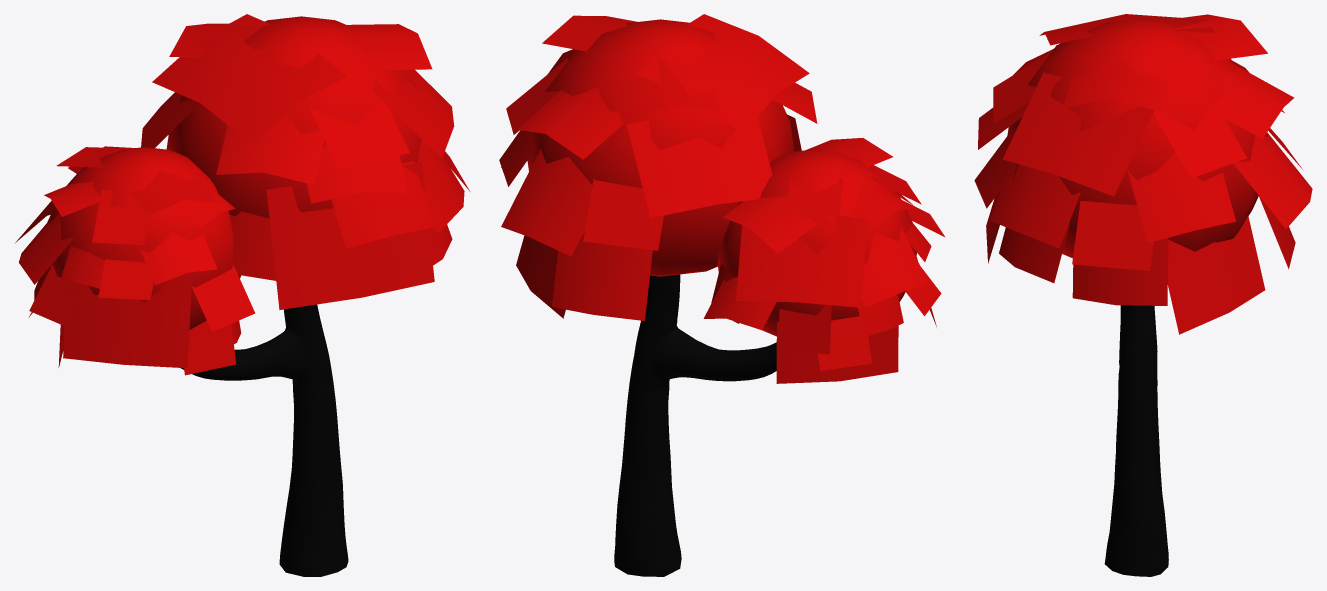
The model's file is trunkvar4Model.fbx.
3 views of the same model, side by side, from view 1: azimuth 30°, elevation 25°; view 2: azimuth 150°, elevation 25°; view 3: azimuth 270°, elevation 25° (orthographic). The views are drawn at different scales.
Visible parts, largest first — view 1: Oak1; view 2: Oak1; view 3: Oak1.
Part boxes in pixels (<box>): Oak1: <box>15,14,470,576</box>; Oak1: <box>499,14,944,576</box>; Oak1: <box>974,14,1312,576</box>.
Bounding box in the file's own units: 102 × 124 × 71.93.
